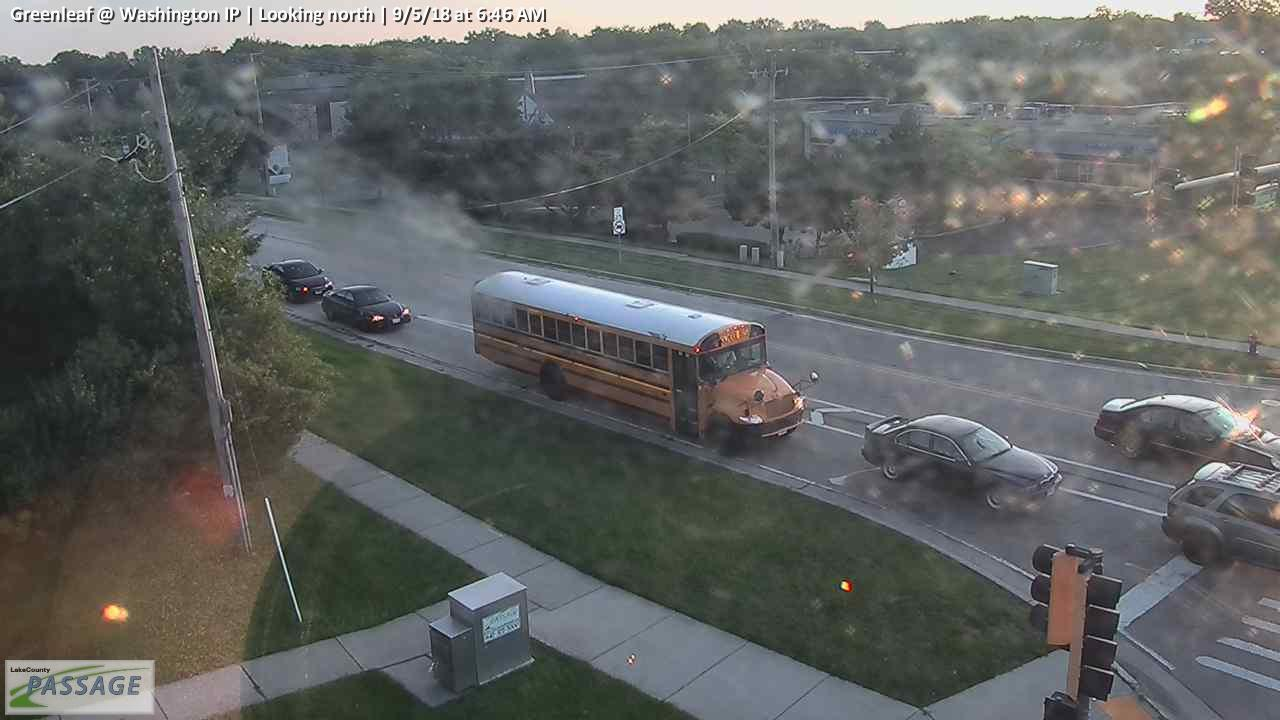Bus: (472, 270, 819, 457)
SUV: (1159, 462, 1280, 575)
Sedan: (860, 414, 1063, 510), (1091, 393, 1280, 472), (320, 284, 410, 333), (261, 259, 332, 306)
